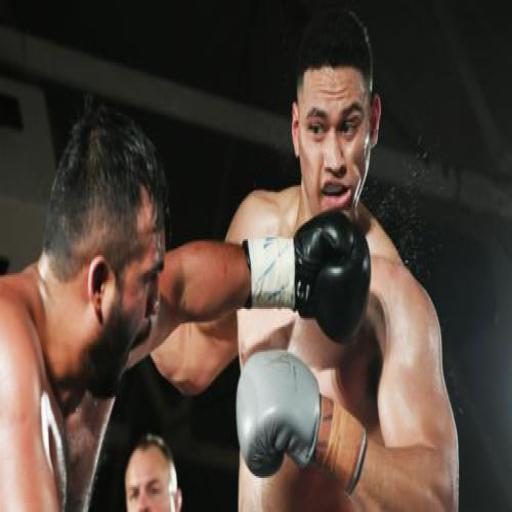boxing: (18, 102, 404, 512)
